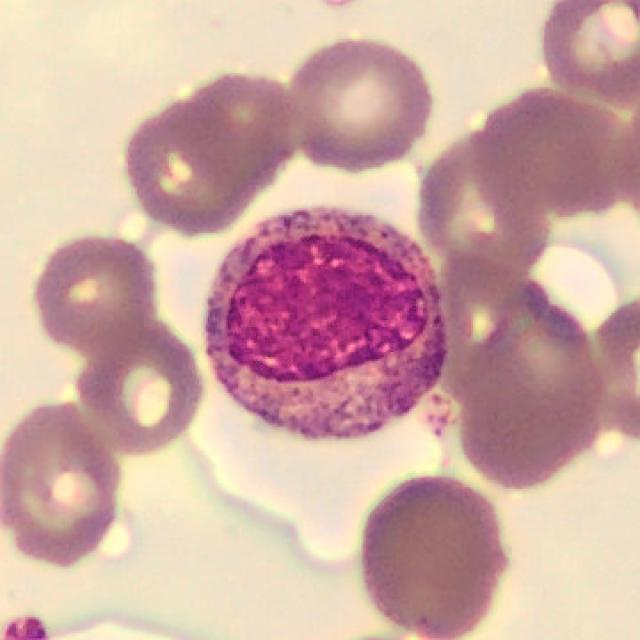Mielocito: (204, 208, 448, 441)
